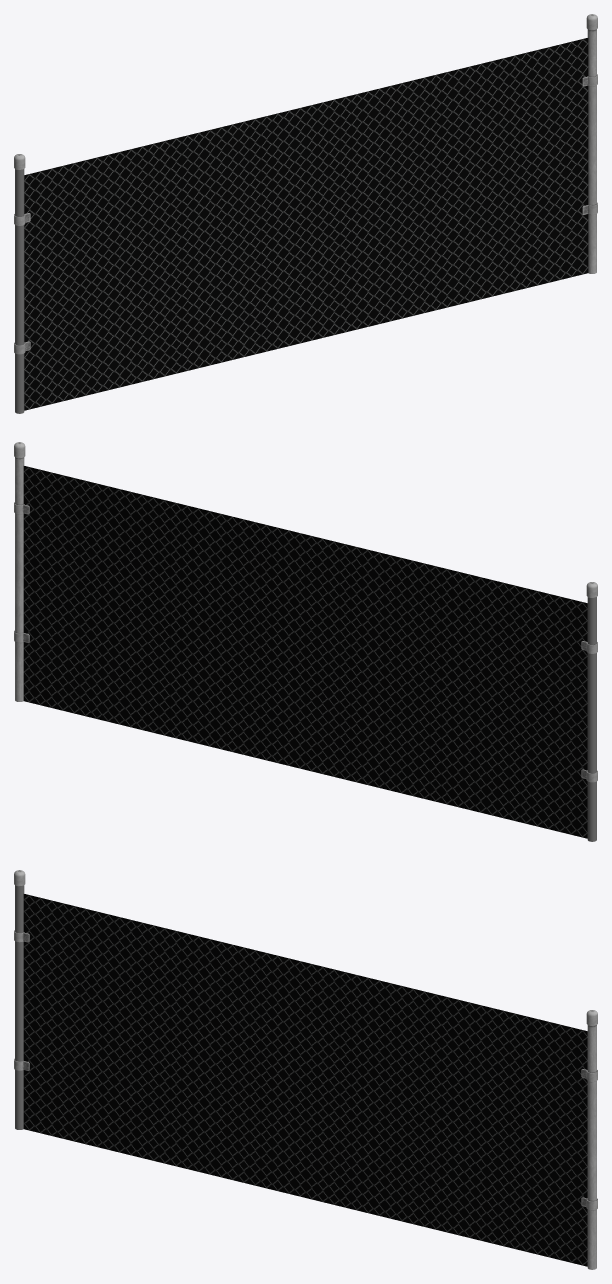
Rendered from chain_link_fence_low_poly_version.glb.
3 renders of one model, top to bottom at view 1: azimuth 30°, elevation 25°; view 2: azimuth 150°, elevation 25°; view 3: azimuth 330°, elevation 25°, orthographic.
Visible parts, largest first — view 1: Fencing_low, Posts_low, Brackets_low; view 2: Fencing_low, Posts_low, Brackets_low; view 3: Fencing_low, Posts_low, Brackets_low.
Boxes of the visible parts, x1,y1,x2,y2 form: Fencing_low: (24,38,588,410); Posts_low: (14,14,597,413); Brackets_low: (14,74,597,354); Fencing_low: (23,466,587,838); Posts_low: (14,442,597,841); Brackets_low: (14,502,597,782); Fencing_low: (23,894,587,1266); Posts_low: (14,870,597,1269); Brackets_low: (14,930,597,1210).
Bounding box in the file's own units: 14.24 × 6 × 0.24.
2 materials, 2 textured.
